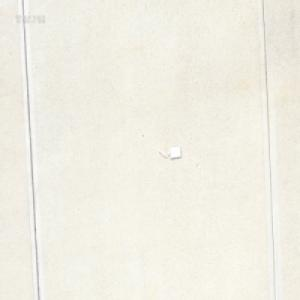LuggageTag: (156, 144, 181, 161)
